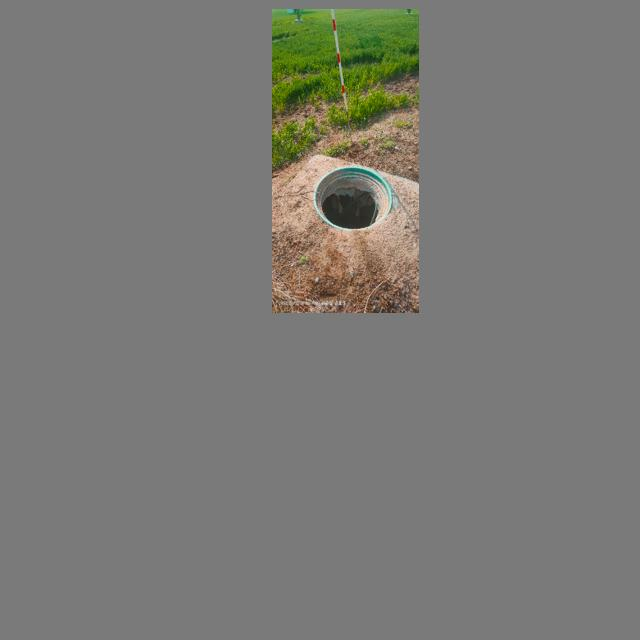lose: (312, 165, 397, 231)
